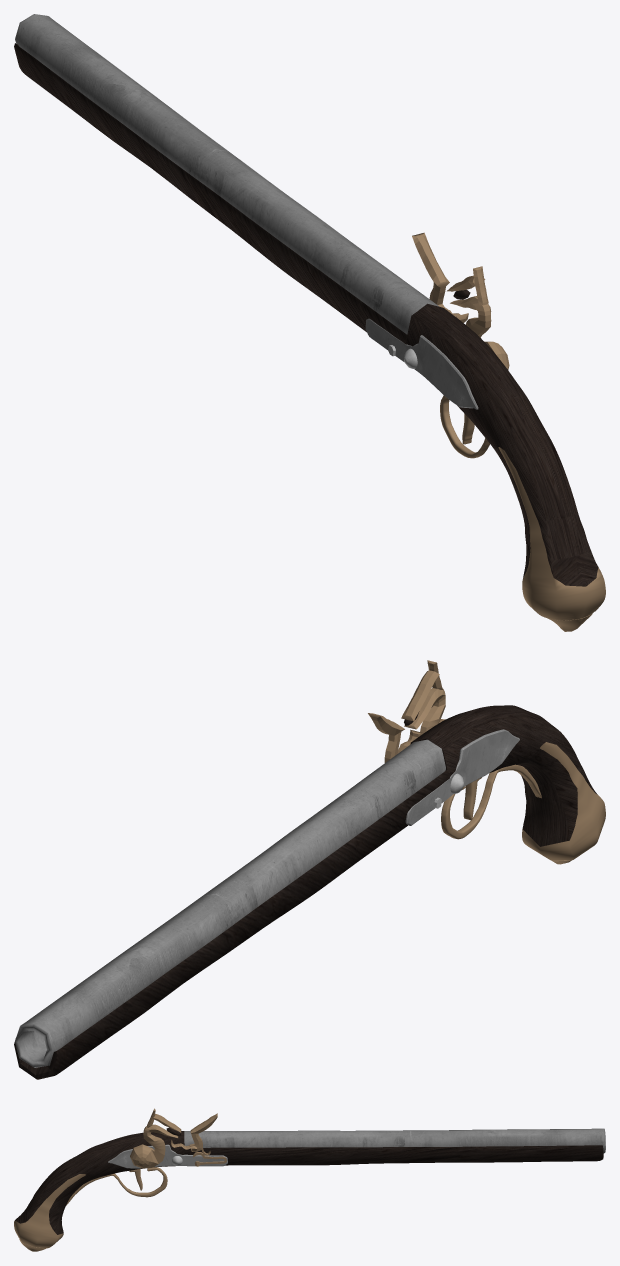
Rendered from flintlock_pistol_model.glb.
The picture shows the model from 3 angles, top to bottom: view 1: azimuth 30°, elevation 25°; view 2: azimuth 150°, elevation 25°; view 3: azimuth 270°, elevation 25°; orthographic projection. The views are drawn at different scales.
Visible parts, largest first — view 1: STONE1 (×8); view 2: STONE1 (×8); view 3: STONE1 (×8).
Part boxes in pixels (x1,y1,x2,y2): STONE1 (×8): (14, 14, 605, 631); STONE1 (×8): (14, 660, 605, 1079); STONE1 (×8): (14, 1108, 605, 1251).
Size of the model in its own units: 0.00762 by 0.0277 by 0.1009.
Materials: 11 (11 with a texture image).
